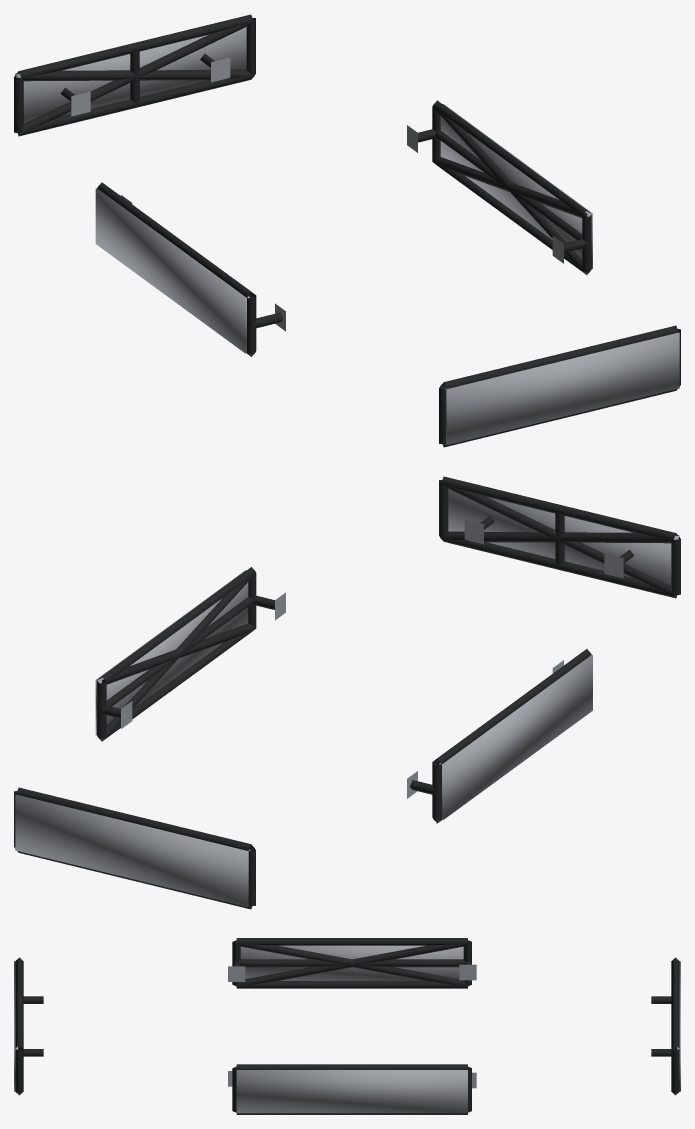
Rendered from lindauer_friso_protecao.glb.
3 views of the same model, one above another, from view 1: azimuth 30°, elevation 25°; view 2: azimuth 150°, elevation 25°; view 3: azimuth 270°, elevation 25° (orthographic). The views are drawn at different scales.
Visible parts, largest first — view 1: Protection_front_Level3_Details, Protection_left_Level3_Details, Protection_rear_Level1_Details, Protection_rear_Level3_Details, Protection_right_Level1_Details, Protection_rear_Level2_Details, Protection_right_Level2_Details, Protection_right_Level3_Details, Protection_front_Level1_Details, Protection_left_Level1_Details; view 2: Protection_rear_Level3_Details, Protection_left_Level3_Details, Protection_front_Level1_Details, Protection_front_Level3_Details, Protection_right_Level1_Details, Protection_front_Level2_Details, Protection_right_Level2_Details, Protection_right_Level3_Details, Protection_rear_Level1_Details, Protection_left_Level1_Details; view 3: Protection_right_Level3_Details, Protection_left_Level2_Details, Protection_left_Level1_Details, Protection_left_Level3_Details, Protection_right_Level1_Details, Protection_rear_Level1_Details, Protection_front_Level1_Details.
Part boxes in pixels (x1,y1,x2,y2): Protection_front_Level3_Details: [444, 332, 679, 444]; Protection_left_Level3_Details: [95, 188, 249, 353]; Protection_rear_Level1_Details: [14, 14, 255, 136]; Protection_rear_Level3_Details: [15, 27, 246, 123]; Protection_right_Level1_Details: [407, 100, 591, 274]; Protection_rear_Level2_Details: [16, 21, 253, 135]; Protection_right_Level2_Details: [433, 107, 590, 274]; Protection_right_Level3_Details: [440, 104, 592, 268]; Protection_front_Level1_Details: [439, 325, 680, 447]; Protection_left_Level1_Details: [97, 182, 285, 356]; Protection_rear_Level3_Details: [15, 794, 250, 906]; Protection_left_Level3_Details: [439, 655, 592, 819]; Protection_front_Level1_Details: [439, 476, 680, 598]; Protection_front_Level3_Details: [448, 489, 679, 585]; Protection_right_Level1_Details: [97, 567, 285, 741]; Protection_front_Level2_Details: [441, 483, 678, 597]; Protection_right_Level2_Details: [98, 573, 255, 740]; Protection_right_Level3_Details: [95, 570, 248, 735]; Protection_rear_Level1_Details: [14, 787, 255, 909]; Protection_left_Level1_Details: [407, 649, 591, 823]; Protection_right_Level3_Details: [236, 1070, 467, 1113]; Protection_left_Level2_Details: [236, 941, 468, 986]; Protection_left_Level1_Details: [228, 938, 476, 988]; Protection_left_Level3_Details: [240, 945, 463, 980]; Protection_right_Level1_Details: [228, 1064, 476, 1114]; Protection_rear_Level1_Details: [651, 957, 679, 1095]; Protection_front_Level1_Details: [15, 957, 43, 1095].
Size of the model in its own units: 1.97 by 0.354 by 4.24.
1 material, 1 textured.
